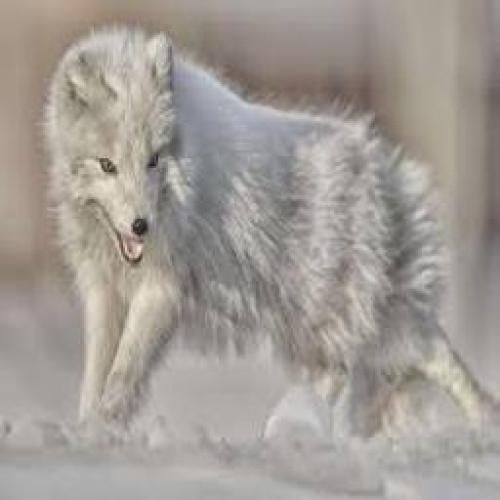arctic_fox-endangered: (43, 28, 495, 442)
